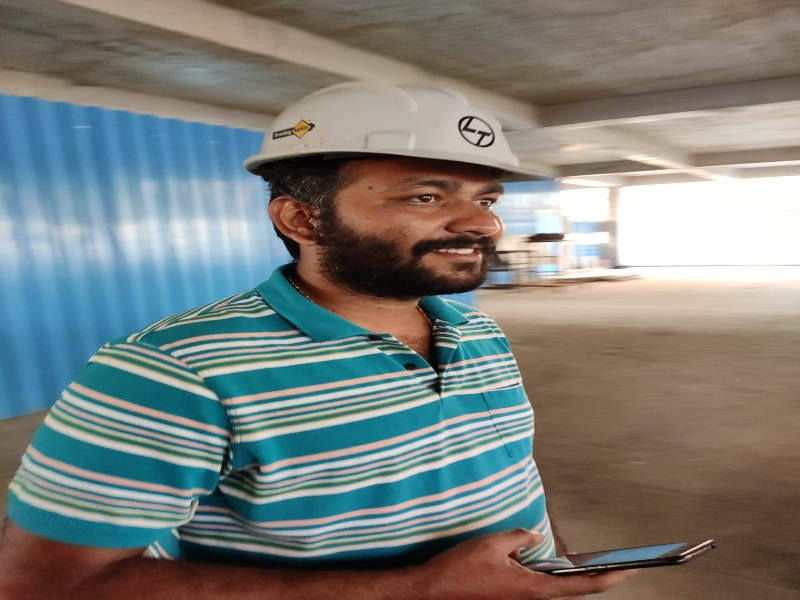Face: (232, 71, 560, 188)
